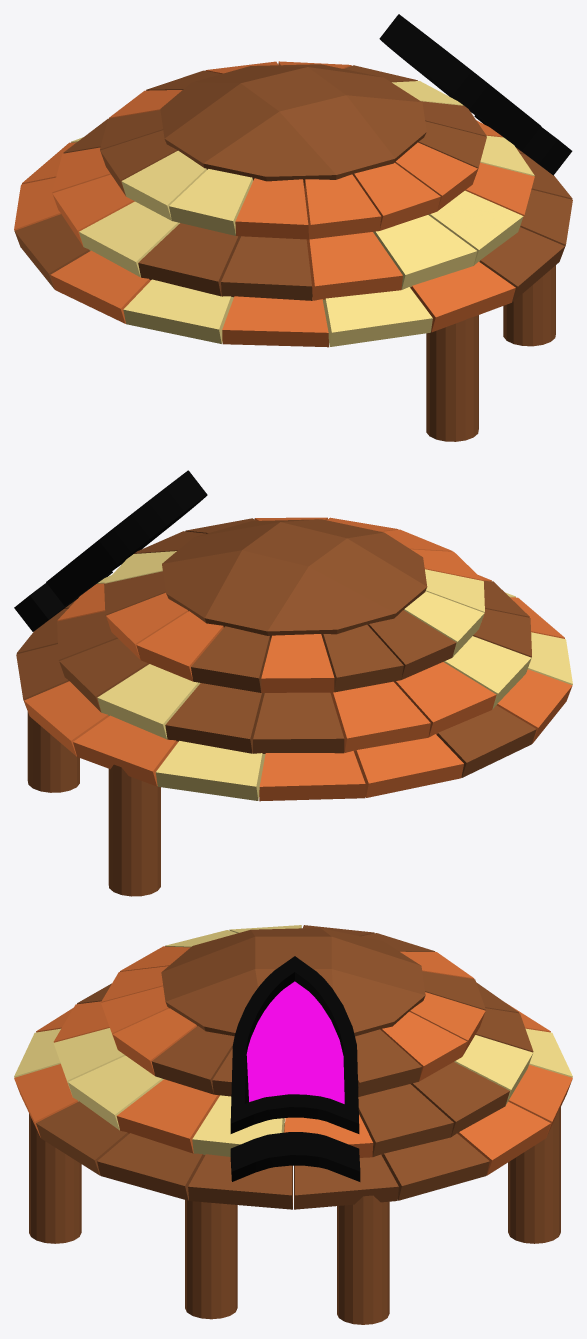
File: XORStation.fbx
3 views of the same model, one above another, from view 1: azimuth 30°, elevation 25°; view 2: azimuth 150°, elevation 25°; view 3: azimuth 270°, elevation 25° (orthographic).
Parts seen in each view (by area): view 1: XORStation; view 2: XORStation; view 3: XORStation.
Boxes of the visible parts, box(x1,y1,x2,y2) form: XORStation: box(14, 14, 572, 441); XORStation: box(14, 470, 572, 896); XORStation: box(14, 925, 572, 1324).
Bounding box in the file's own units: 1058 × 641 × 1050.
